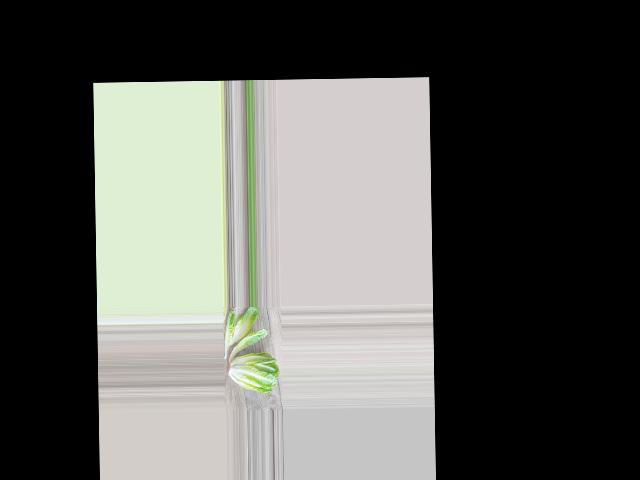lettuce: (229, 350, 278, 395)
